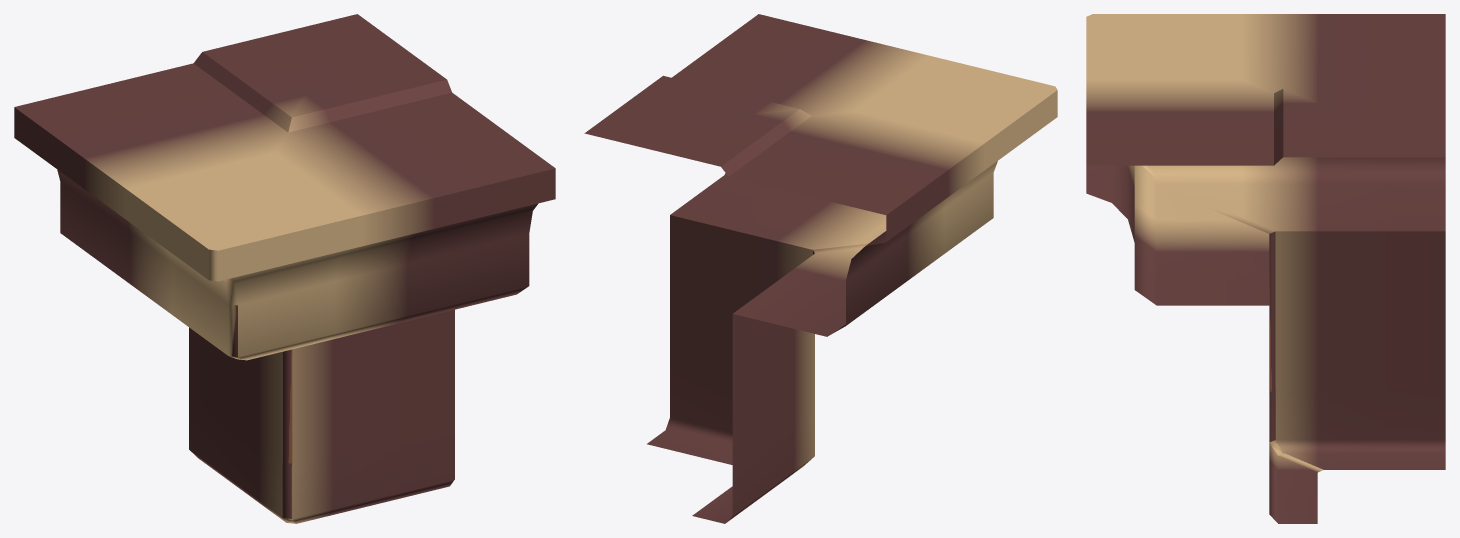
The model's file is DBK_Cornice_B_Corner.fbx.
The picture shows the model from 3 angles, left to right: view 1: azimuth 30°, elevation 25°; view 2: azimuth 150°, elevation 25°; view 3: azimuth 270°, elevation 25°; orthographic projection. The views are drawn at different scales.
Visible parts, largest first — view 1: DBK_Cornice_B_Corner; view 2: DBK_Cornice_B_Corner; view 3: DBK_Cornice_B_Corner.
Part boxes in pixels (left/top/right/bottom): DBK_Cornice_B_Corner: left=14, top=14, right=555, bottom=523; DBK_Cornice_B_Corner: left=584, top=14, right=1057, bottom=523; DBK_Cornice_B_Corner: left=1086, top=14, right=1445, bottom=523.
Bounding box in the file's own units: 56.13 × 63.25 × 56.13.
